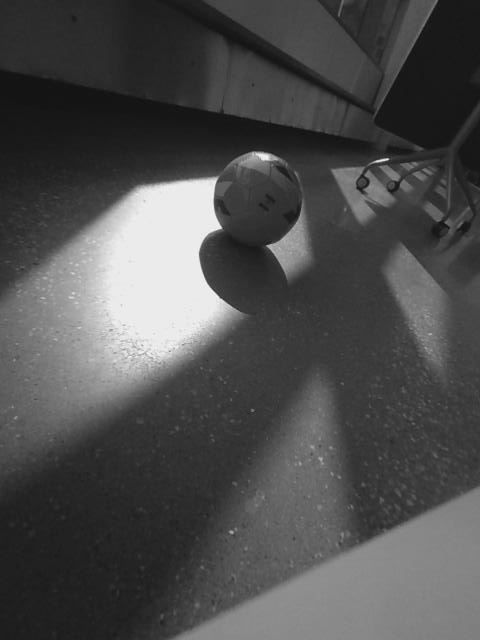ball: (210, 148, 304, 248)
